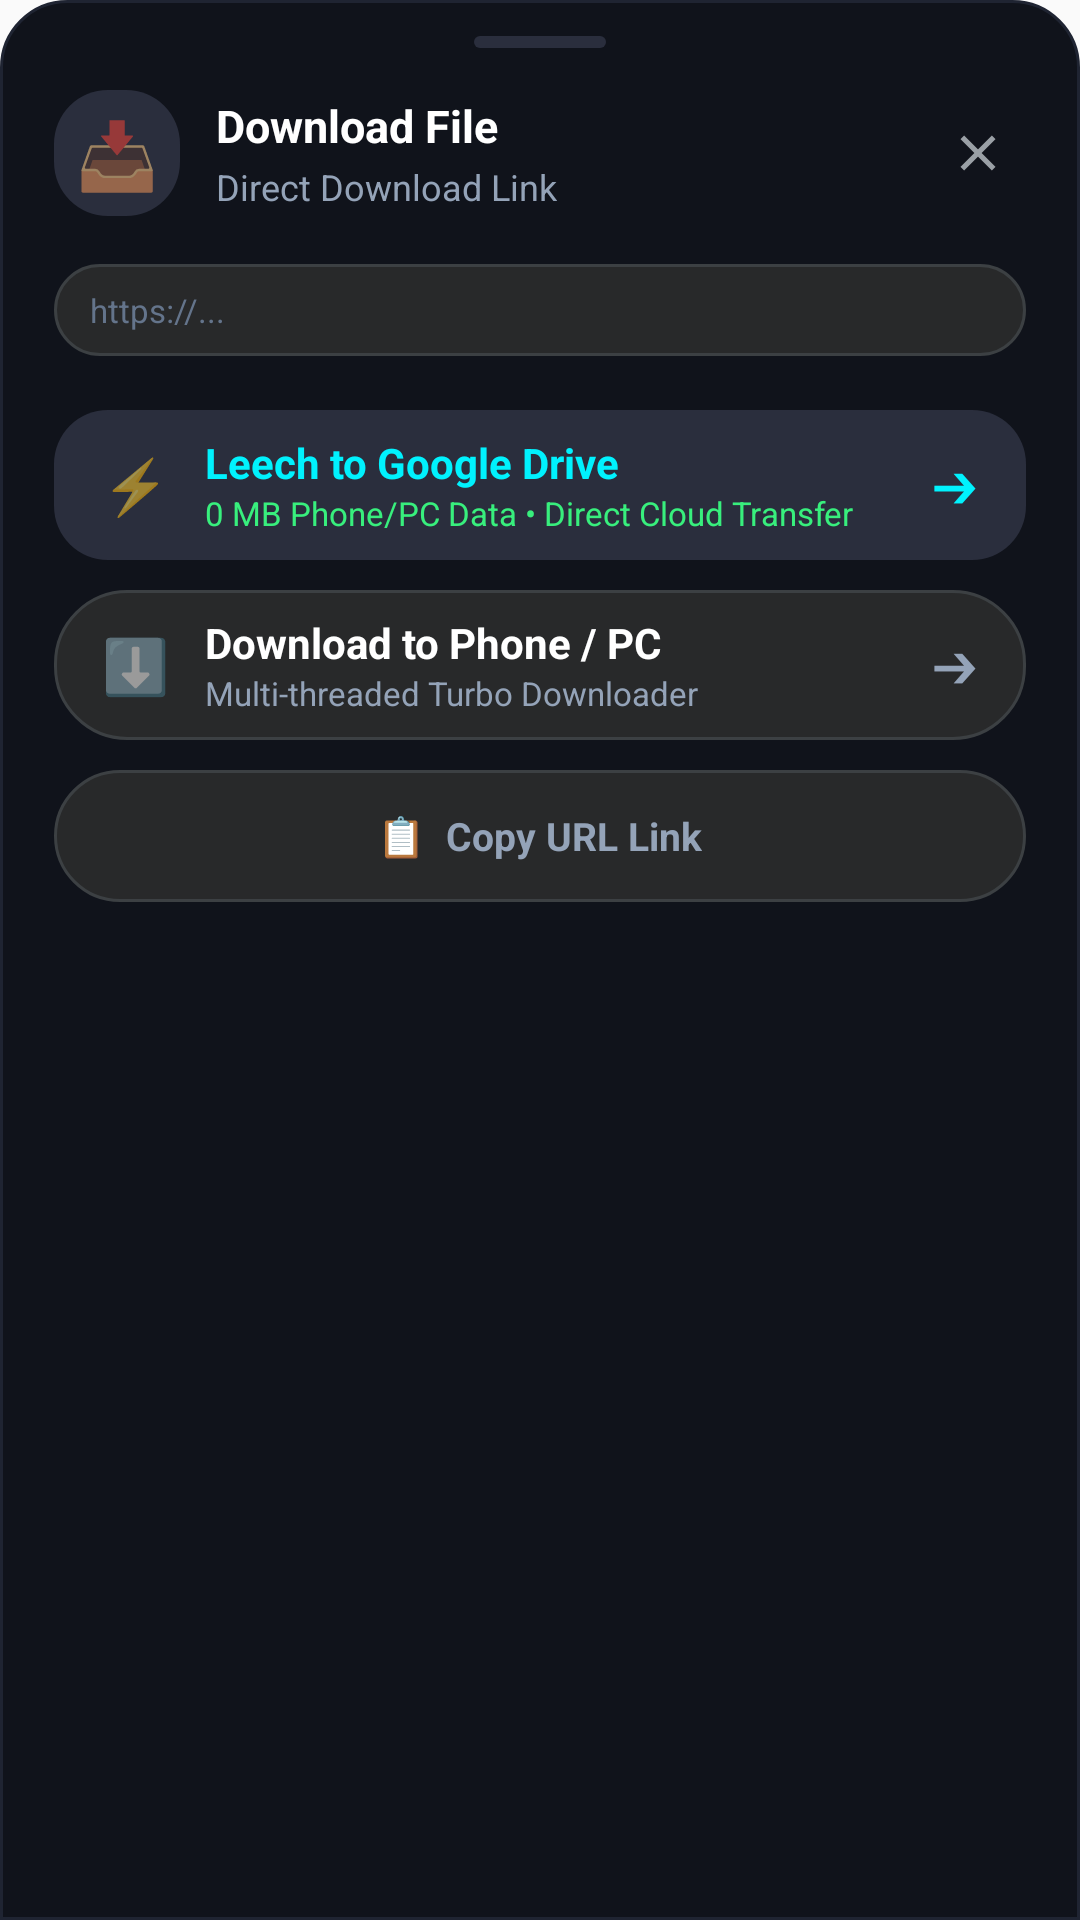

Locate icon controls on the screen. Image size 1080px×1920px, boxes as (x1, y1, x2, y2).
Close: (960, 135, 996, 171)
